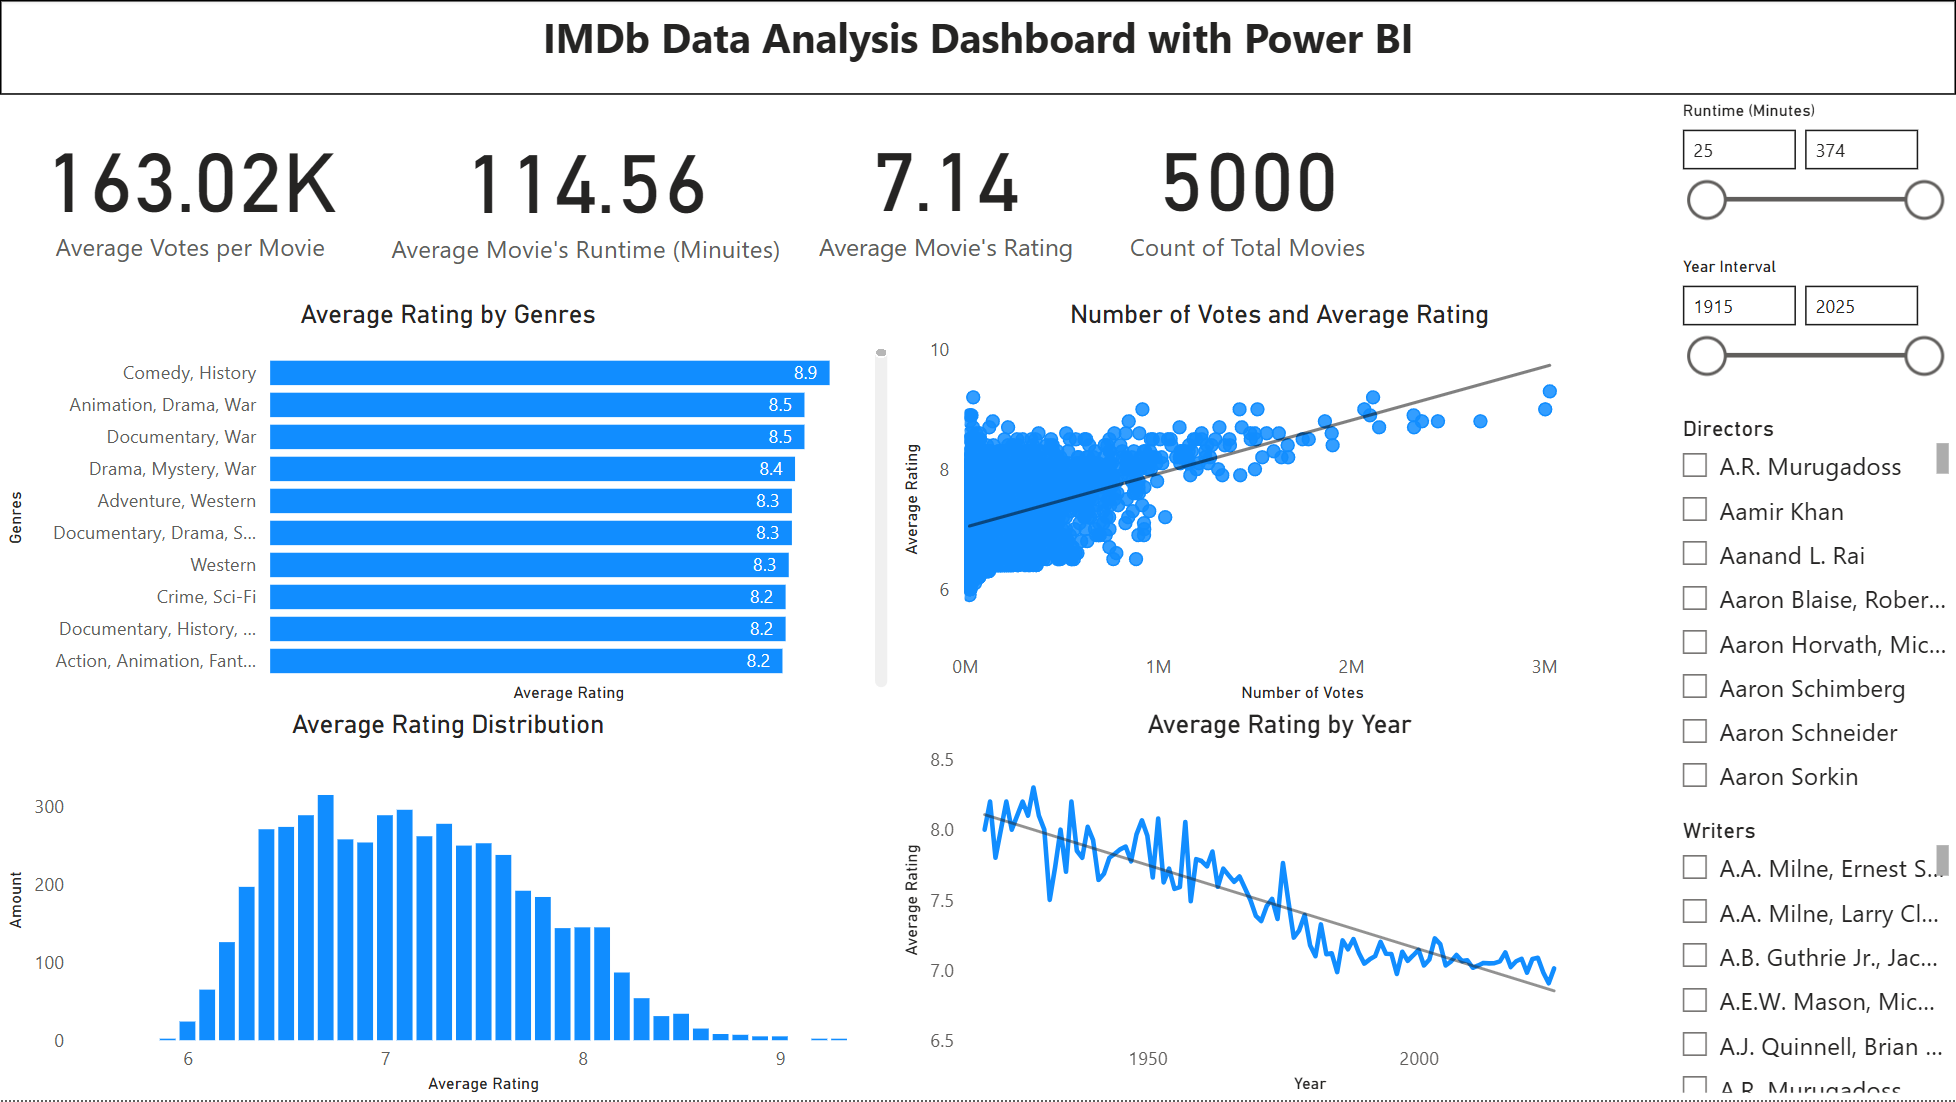

Layout of this report page (visuals, bound fields, positions):
{"tool":"powerbi","page":{"name":"IBDb Dashboard","canvas":[1280,720],"ordinal":0},"visuals":[{"type":"card","title":"Total Amount of Movies","fields":{"Values":["imdb.primaryTitle"]},"box":[720.5,60.9,192.4,124.3],"z":0},{"type":"card","fields":{"Values":["imdb.averageRating"]},"box":[517,60.9,203.5,124.3],"z":1000},{"type":"card","fields":{"Values":["imdb.runtimeMinutes"]},"box":[249.3,62.2,267.6,124.3],"z":2000},{"type":"slicer","fields":{"Values":["imdb.startYear"]},"box":[1088.3,162.9,191.7,104],"z":3000},{"type":"barChart","fields":{"Y":["imdb.averageRating"],"Category":["imdb.genres"]},"box":[0,195.7,586.3,268.3],"z":4000},{"type":"slicer","fields":{"Values":["imdb.directors"]},"box":[1088.3,267,191.7,263.1],"z":5000},{"type":"scatterChart","fields":{"X":["imdb.numVotes"],"Y":["imdb.averageRating"]},"box":[586.3,195.7,501.9,268.3],"z":6000},{"type":"columnChart","title":"Average Rating Distribution","fields":{"Category":["imdb.averageRating"],"Y":["imdb.averageRating"]},"box":[0,464,586.3,255.9],"z":7000},{"type":"lineChart","fields":{"Category":["imdb.startYear"],"Y":["imdb.averageRating"]},"box":[586.3,464,501.9,255.9],"z":8000},{"type":"slicer","fields":{"Values":["imdb.runtimeMinutes"]},"box":[1088.3,60.9,191.7,102.1],"z":9000},{"type":"card","fields":{"Values":["imdb.numVotes"]},"box":[0,62.2,249.3,121.7],"z":10000},{"type":"textbox","box":[0,0,1280,62.2],"z":11000},{"type":"slicer","fields":{"Values":["imdb.writers"]},"box":[1088.3,530.1,191.7,189.8],"z":12000}]}

Visuals, with their boxes in screenshot pixels (x1, y1, x2, y2), scaled from the page's 1280x720 canvas onto the 1956x1102 screenshot:
"Total Amount of Movies" card: (x1=1101, y1=93, x2=1395, y2=283)
card - imdb.averageRating: (x1=790, y1=93, x2=1101, y2=283)
card - imdb.runtimeMinutes: (x1=381, y1=95, x2=790, y2=285)
slicer - imdb.startYear: (x1=1663, y1=249, x2=1955, y2=409)
barChart - imdb.averageRating x imdb.genres: (x1=0, y1=300, x2=896, y2=710)
slicer - imdb.directors: (x1=1663, y1=409, x2=1955, y2=811)
scatterChart - imdb.numVotes x imdb.averageRating: (x1=896, y1=300, x2=1663, y2=710)
"Average Rating Distribution" columnChart: (x1=0, y1=710, x2=896, y2=1101)
lineChart - imdb.startYear x imdb.averageRating: (x1=896, y1=710, x2=1663, y2=1101)
slicer - imdb.runtimeMinutes: (x1=1663, y1=93, x2=1955, y2=249)
card - imdb.numVotes: (x1=0, y1=95, x2=381, y2=281)
textbox: (x1=0, y1=0, x2=1955, y2=95)
slicer - imdb.writers: (x1=1663, y1=811, x2=1955, y2=1101)
